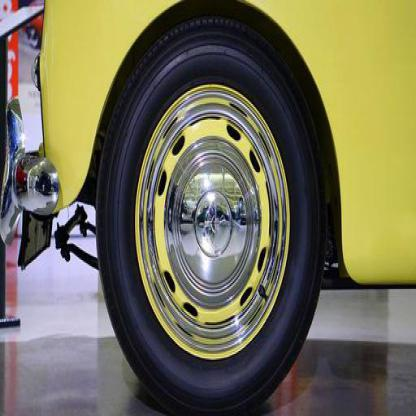Tire: (93, 11, 326, 414)
